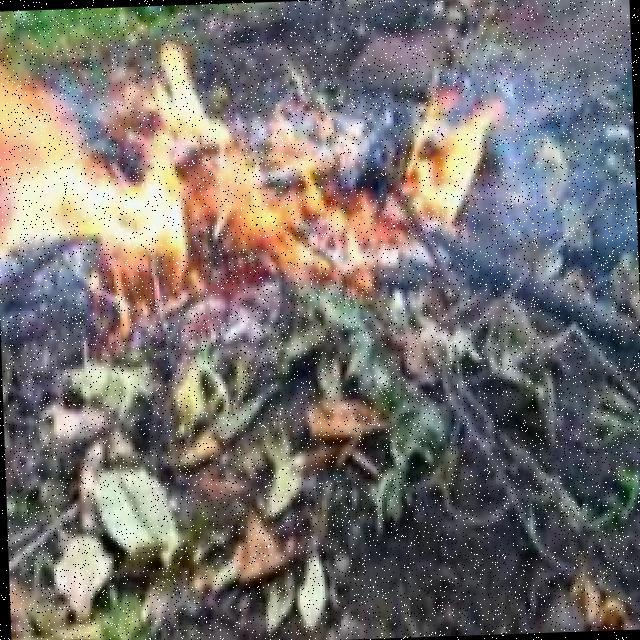Fire: (228, 91, 508, 271), (0, 52, 233, 265)
